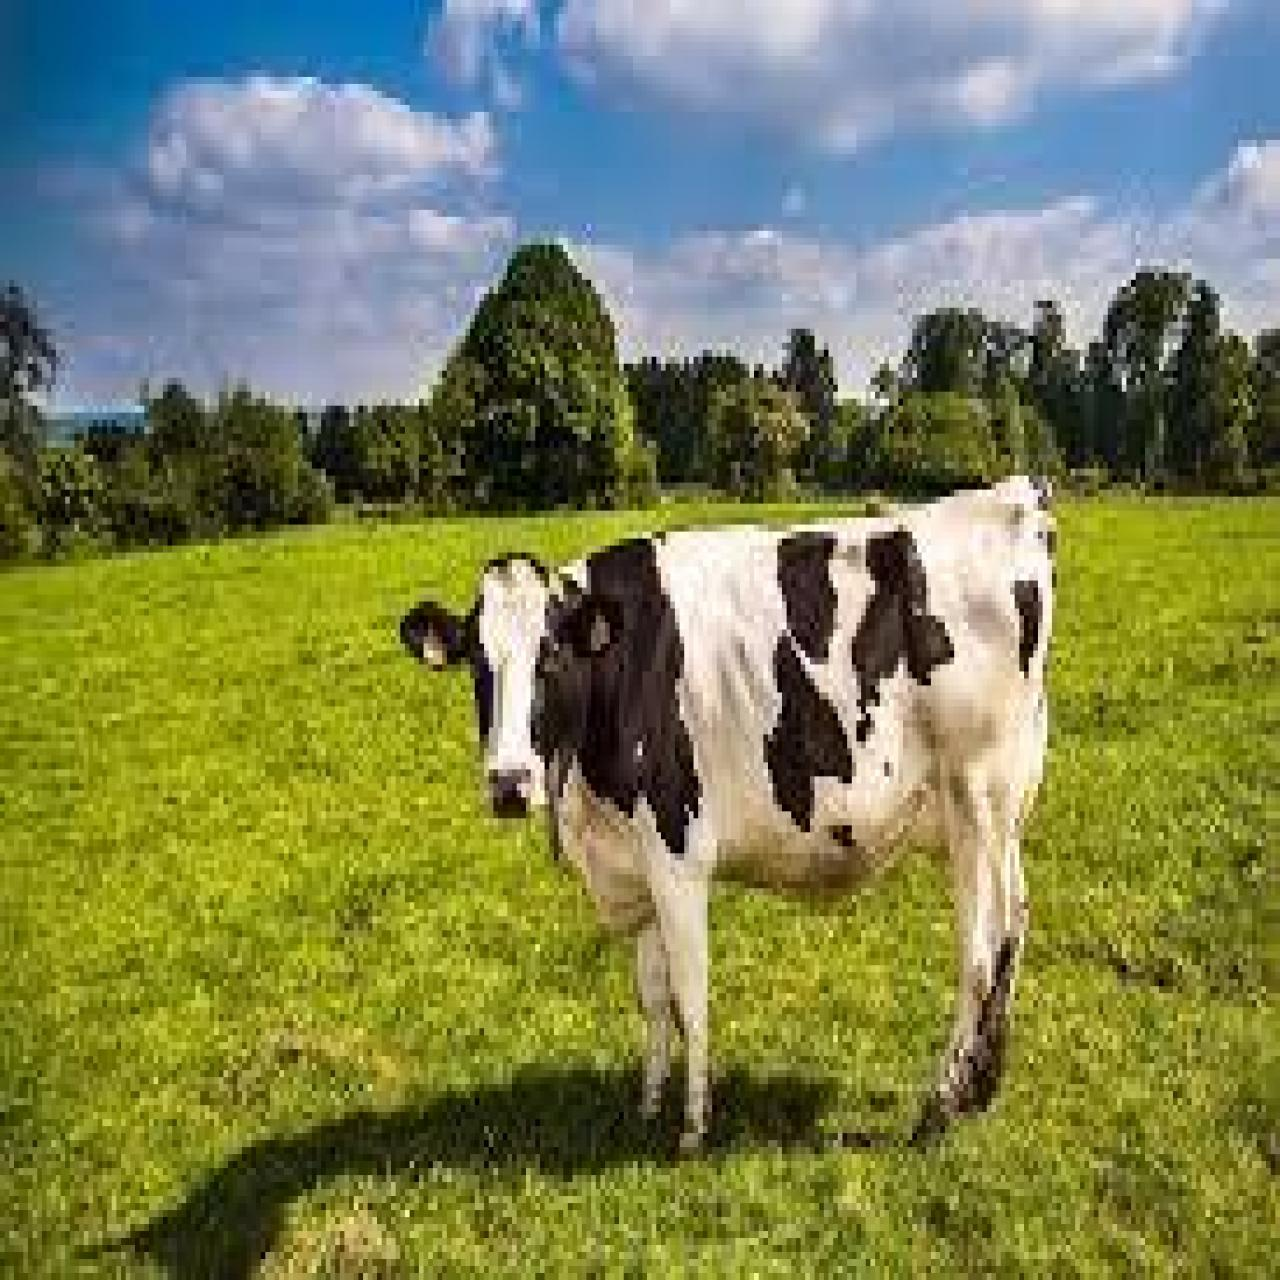cow: (404, 497, 1047, 1155)
